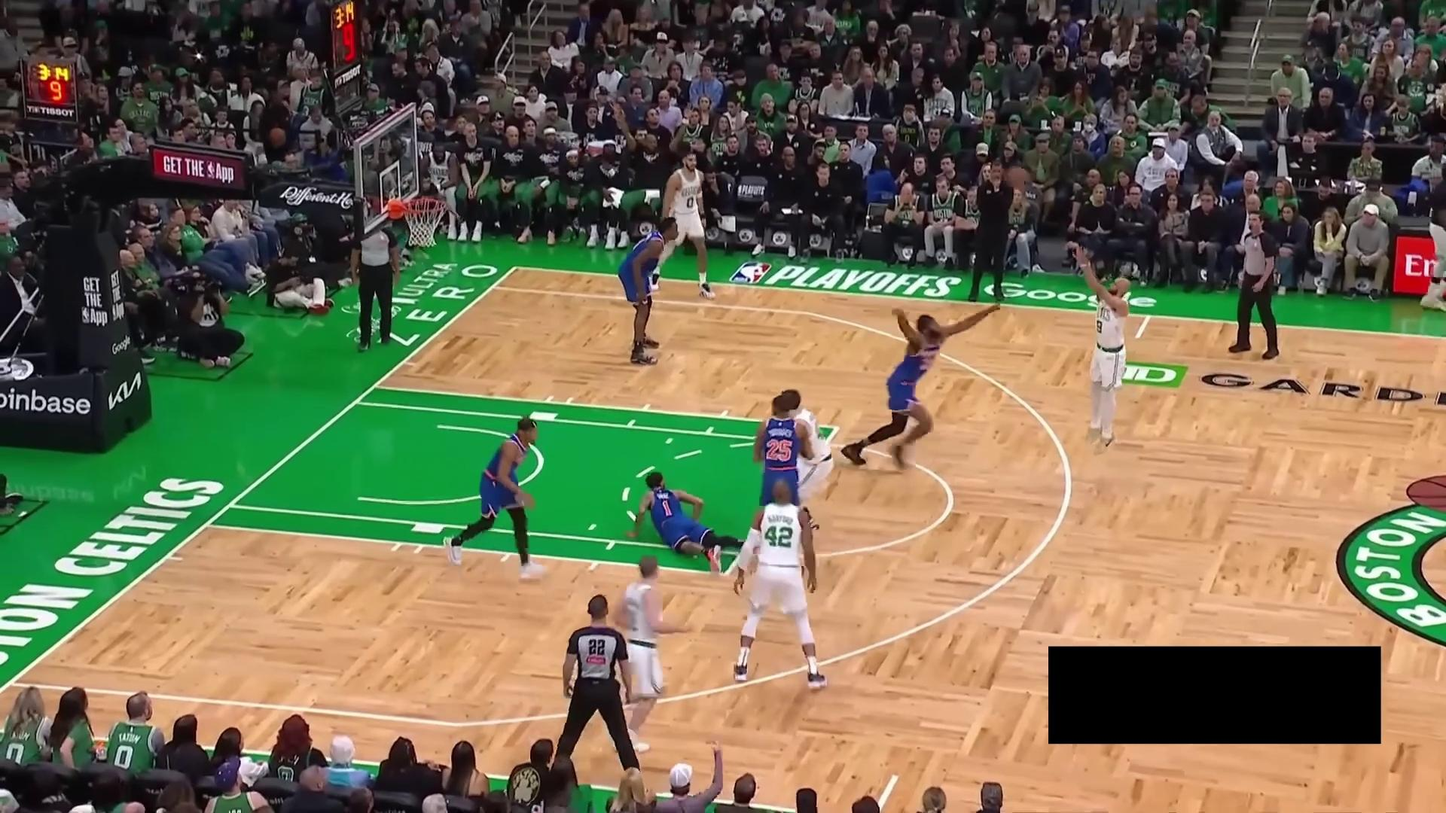ball: (1003, 163, 1030, 191)
number: (764, 522, 797, 550), (764, 438, 792, 464), (661, 498, 675, 519), (1095, 319, 1103, 334), (687, 195, 694, 208)
player: (731, 478, 828, 695), (440, 411, 545, 580), (608, 552, 691, 759), (628, 471, 751, 575), (648, 144, 722, 306), (618, 214, 683, 370), (750, 396, 816, 532), (777, 384, 837, 533)
player-jump-shot: (1065, 242, 1141, 456)
player-shot-block: (836, 299, 1004, 474)
referee: (552, 589, 649, 779), (1226, 208, 1281, 362), (350, 220, 403, 356)
rim: (399, 193, 450, 215)
